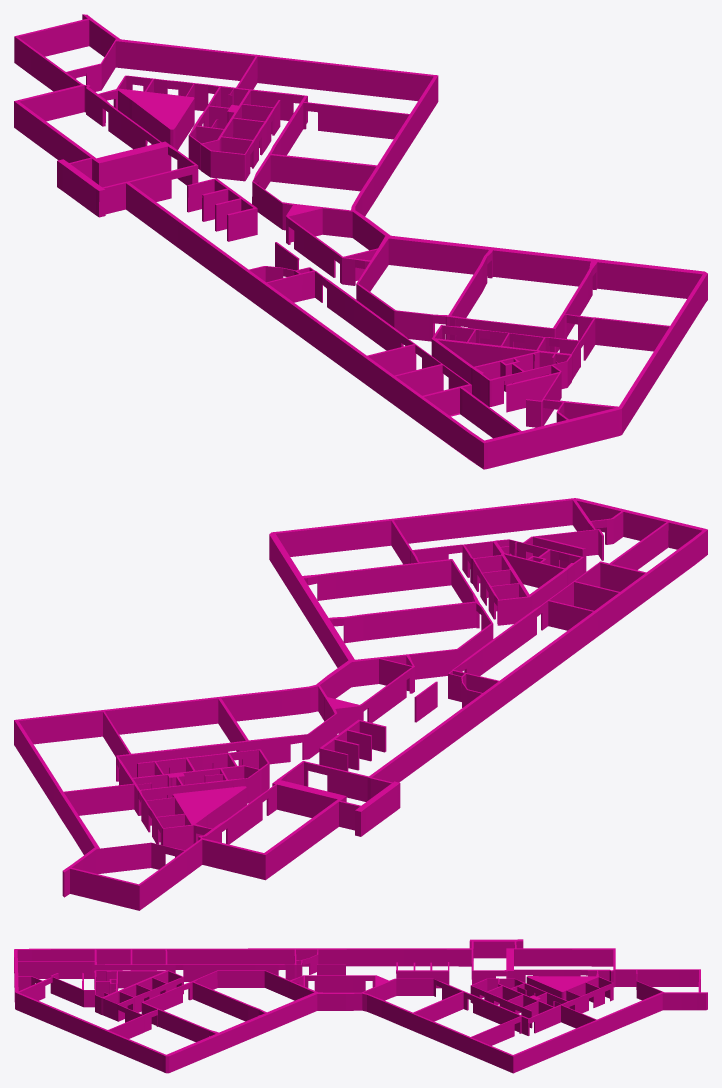
The model's file is 6thwalls.gltf.
3 views of the same model, one above another, from view 1: azimuth 30°, elevation 25°; view 2: azimuth 150°, elevation 25°; view 3: azimuth 270°, elevation 25° (orthographic). The views are drawn at different scales.
Parts seen in each view (by area): view 1: walls; view 2: walls; view 3: walls.
Part boxes in pixels (left/top/right/bottom): walls: left=14, top=14, right=707, bottom=469; walls: left=14, top=498, right=707, bottom=910; walls: left=14, top=939, right=707, bottom=1073.
Size of the model in its own units: 44.35 by 3.03 by 111.
